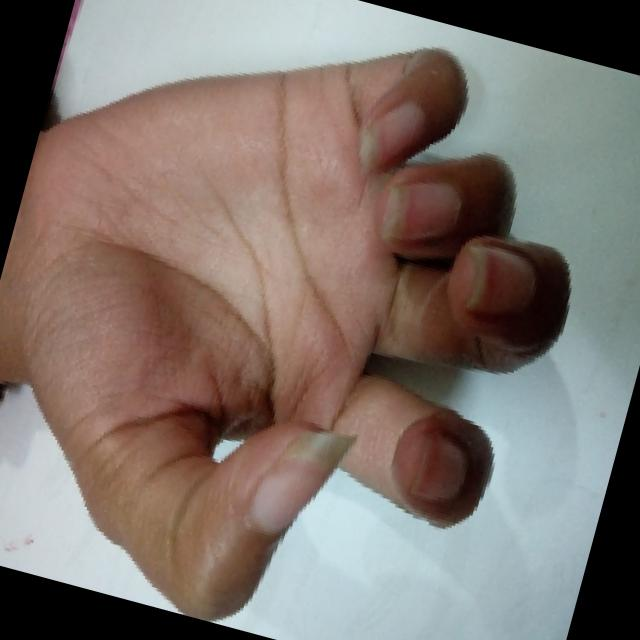Nail: (251, 429, 353, 533), (465, 245, 535, 314), (359, 101, 424, 171), (384, 181, 460, 240), (413, 436, 467, 499)
